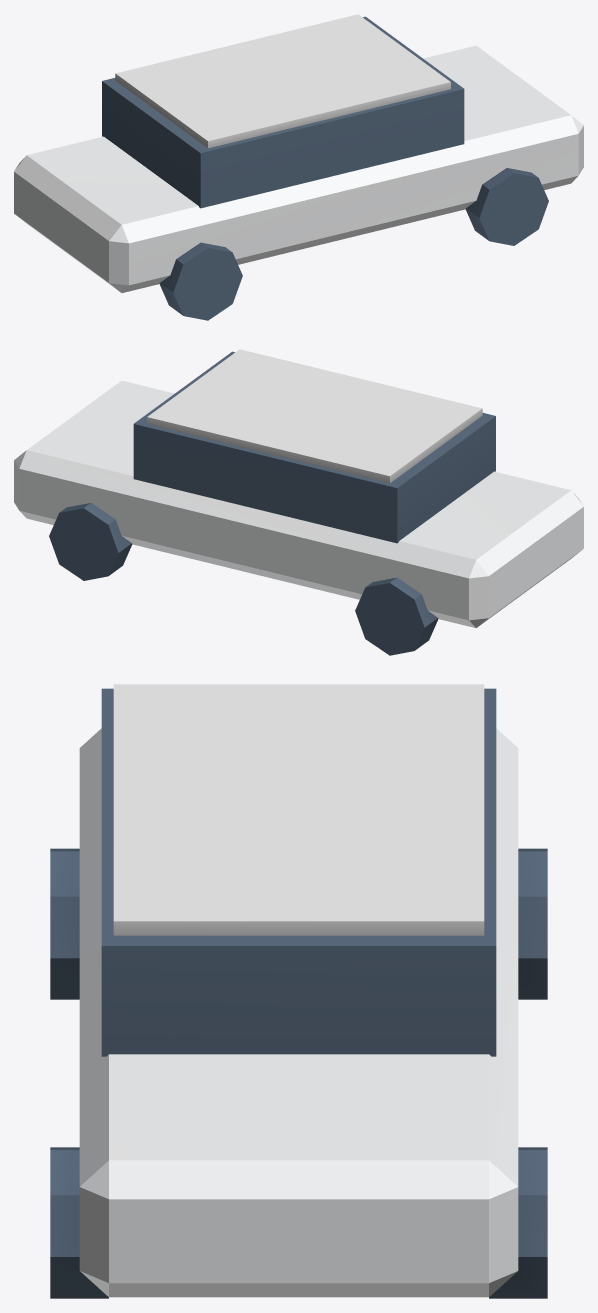
The model's file is car.glb.
The picture shows the model from 3 angles, top to bottom: view 1: azimuth 30°, elevation 25°; view 2: azimuth 150°, elevation 25°; view 3: azimuth 270°, elevation 25°; orthographic projection. The views are drawn at different scales.
Parts seen in each view (by area): view 1: car; view 2: car; view 3: car.
Part boxes in pixels (<box>): car: <box>14,14,583,320</box>; car: <box>14,349,583,655</box>; car: <box>50,684,547,1298</box>.
Size of the model in its own units: 4.5 by 1.49 by 2.04.
